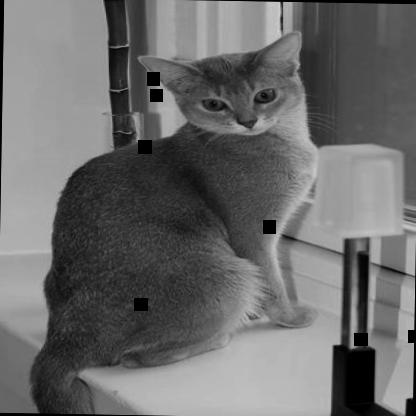cat: (25, 25, 321, 415)
